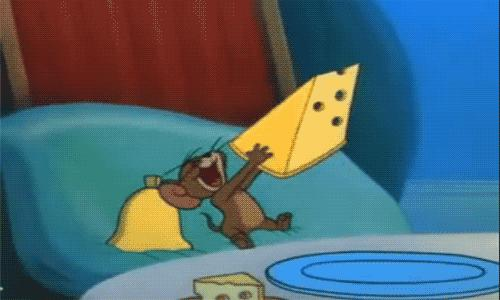jerry: (157, 136, 295, 250)
